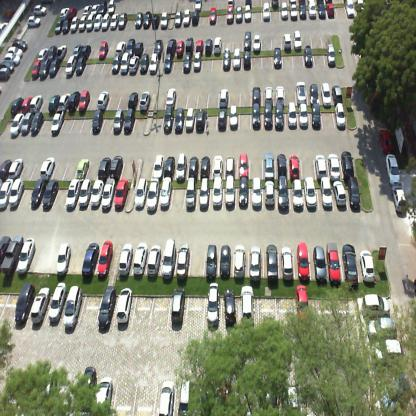car: (380, 373, 409, 414), (14, 282, 35, 327), (62, 286, 82, 330), (2, 234, 24, 274), (97, 285, 116, 330), (48, 281, 68, 322), (30, 286, 51, 324), (342, 242, 358, 287), (95, 373, 112, 415), (362, 293, 390, 318), (16, 238, 36, 272), (82, 364, 97, 409), (375, 341, 404, 364), (158, 378, 176, 415), (96, 240, 113, 279), (262, 374, 278, 415), (160, 240, 176, 279), (358, 249, 376, 283), (8, 177, 26, 211), (207, 281, 220, 328), (368, 319, 397, 340), (116, 286, 132, 324), (81, 242, 98, 277), (294, 283, 310, 320), (326, 242, 340, 284), (41, 178, 59, 210), (296, 241, 310, 282), (170, 288, 185, 326), (175, 244, 190, 282), (384, 153, 401, 186), (240, 285, 254, 325), (132, 241, 148, 276), (178, 378, 193, 415), (312, 246, 327, 283), (223, 288, 237, 327), (117, 242, 133, 276), (390, 183, 407, 215), (219, 380, 235, 414), (265, 242, 278, 283), (56, 242, 72, 275), (147, 244, 162, 279), (65, 178, 81, 210), (200, 381, 215, 415), (30, 177, 46, 208), (133, 176, 148, 209), (249, 245, 262, 283), (281, 245, 294, 282), (102, 174, 115, 210), (146, 178, 160, 210), (304, 176, 317, 210), (340, 149, 354, 180), (159, 177, 173, 208), (0, 176, 13, 209), (205, 244, 217, 279), (114, 178, 128, 208), (220, 242, 231, 280), (285, 383, 298, 415), (50, 108, 64, 137), (378, 128, 394, 153), (40, 155, 56, 180), (233, 243, 245, 276), (292, 177, 304, 210), (176, 150, 188, 183), (109, 154, 124, 180), (90, 177, 103, 207), (78, 178, 91, 208), (349, 176, 360, 210), (238, 176, 249, 210), (332, 180, 346, 206), (8, 157, 24, 179), (30, 110, 44, 135), (9, 113, 23, 138), (64, 53, 78, 78), (278, 176, 288, 210), (252, 174, 262, 208), (186, 176, 196, 210), (123, 108, 136, 134), (328, 153, 340, 181), (91, 108, 103, 136), (321, 178, 332, 208), (225, 176, 235, 209), (212, 176, 222, 209), (199, 177, 209, 210), (98, 155, 111, 180), (75, 157, 89, 180), (334, 100, 345, 129), (274, 102, 285, 131), (153, 152, 165, 178), (21, 110, 33, 136), (39, 54, 51, 80), (296, 78, 307, 106), (29, 92, 43, 114), (164, 152, 176, 177), (78, 88, 90, 113), (10, 94, 22, 119), (217, 105, 228, 132), (173, 108, 184, 135), (163, 106, 174, 133), (113, 106, 124, 133), (264, 180, 274, 209), (311, 101, 321, 130), (288, 100, 298, 129), (264, 102, 274, 131), (251, 101, 261, 130), (165, 85, 177, 109), (97, 88, 110, 110), (289, 153, 299, 181), (196, 106, 206, 134), (75, 53, 87, 76), (326, 41, 337, 66), (20, 92, 33, 113), (48, 57, 61, 78), (264, 151, 274, 178), (321, 82, 331, 109), (185, 106, 195, 133), (315, 154, 326, 178), (0, 158, 11, 182), (68, 90, 80, 112), (30, 58, 42, 80), (277, 152, 287, 178), (238, 153, 248, 179), (213, 153, 223, 179), (229, 106, 239, 132), (4, 52, 21, 67), (188, 155, 199, 178), (298, 103, 308, 128), (218, 88, 229, 110), (139, 90, 150, 112), (303, 45, 314, 67), (111, 54, 122, 76), (98, 38, 109, 60), (163, 50, 173, 74), (140, 50, 150, 74), (120, 51, 130, 75), (25, 14, 41, 29), (0, 237, 9, 263), (232, 46, 241, 72), (58, 92, 69, 113), (200, 155, 210, 178), (292, 29, 302, 52), (149, 51, 159, 74), (225, 154, 235, 176), (251, 86, 262, 106), (127, 90, 138, 110), (154, 37, 164, 59), (129, 53, 139, 75), (46, 42, 57, 62), (118, 10, 129, 30), (173, 7, 184, 27), (331, 84, 343, 102), (310, 82, 319, 106), (115, 38, 127, 56), (55, 43, 67, 61), (126, 35, 136, 56), (8, 44, 23, 58), (159, 9, 169, 30), (72, 41, 83, 60), (325, 0, 336, 19), (344, 1, 355, 20), (283, 32, 292, 55), (183, 49, 192, 72), (208, 3, 217, 26), (11, 38, 28, 50), (275, 84, 285, 104), (109, 11, 119, 31), (49, 94, 60, 112), (61, 16, 72, 34), (86, 11, 95, 33), (93, 12, 104, 30), (33, 2, 47, 16), (0, 59, 15, 72), (134, 10, 144, 29), (185, 35, 194, 56), (167, 37, 176, 58), (280, 0, 289, 21), (317, 0, 326, 21), (81, 43, 92, 60), (0, 66, 11, 83), (252, 31, 260, 54), (244, 0, 252, 23), (134, 39, 144, 57), (101, 10, 110, 30), (273, 45, 281, 67), (243, 29, 251, 51), (37, 45, 48, 61), (226, 3, 234, 25), (262, 1, 270, 23), (143, 10, 152, 29), (308, 0, 317, 19), (70, 15, 80, 32), (243, 50, 251, 71), (223, 48, 230, 72), (214, 34, 221, 58), (235, 2, 242, 26), (59, 4, 70, 19), (182, 9, 191, 27), (298, 2, 307, 20), (176, 38, 184, 58), (152, 11, 160, 31), (193, 50, 200, 72), (205, 38, 213, 57), (78, 14, 86, 33), (265, 86, 274, 102), (191, 10, 199, 28), (54, 19, 64, 33), (290, 1, 297, 21), (356, 0, 365, 15), (195, 38, 203, 54), (99, 0, 108, 14), (193, 0, 202, 13), (91, 1, 101, 12), (107, 1, 116, 13), (84, 1, 92, 14), (67, 8, 76, 17), (272, 0, 278, 10)
